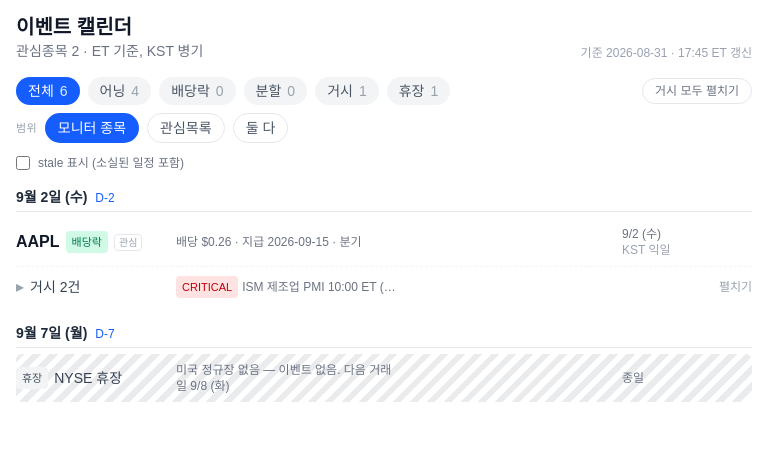
Scenario: EventCalendarPage — 거시 접기(T2) › 접힘 행을 클릭하면 펼쳐져 개별 거시 행이 보인다
Click the button with test id "macro-fold-2026-09-02" at (384, 287), box [16,267,752,307]
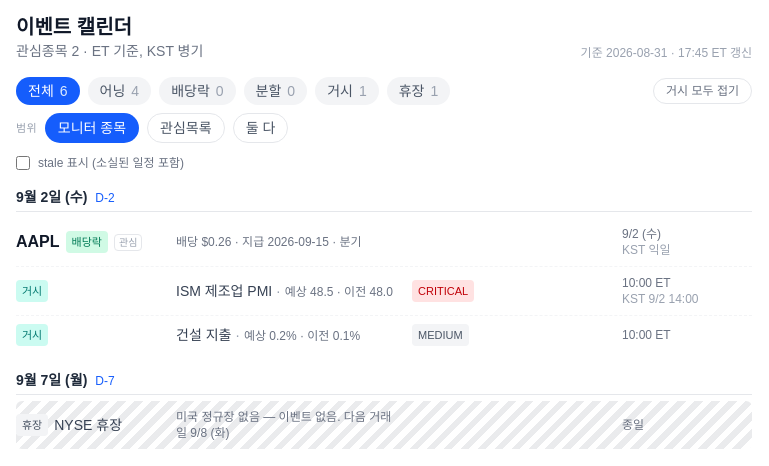
expect the number of elements with test id "event-row-macro-na" is 2: met, box [16,267,752,316]; [16,324,671,346]
expect the button with test id "macro-fold-2026-09-02" is gone: met
